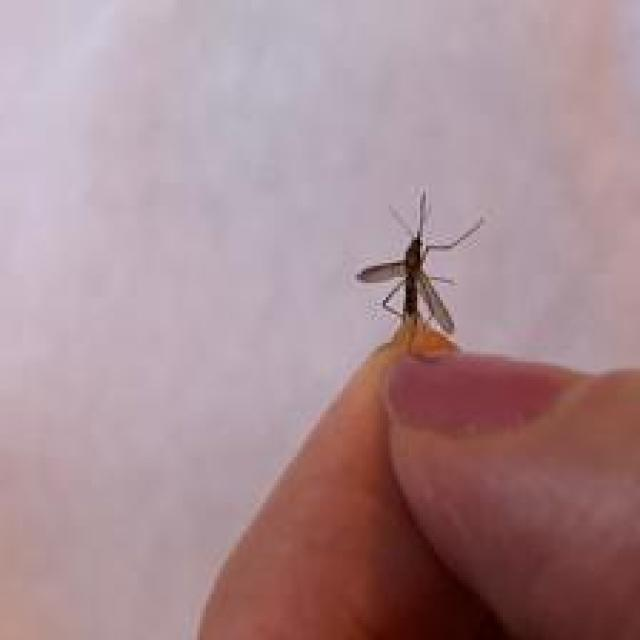Culex: (354, 187, 486, 356)
